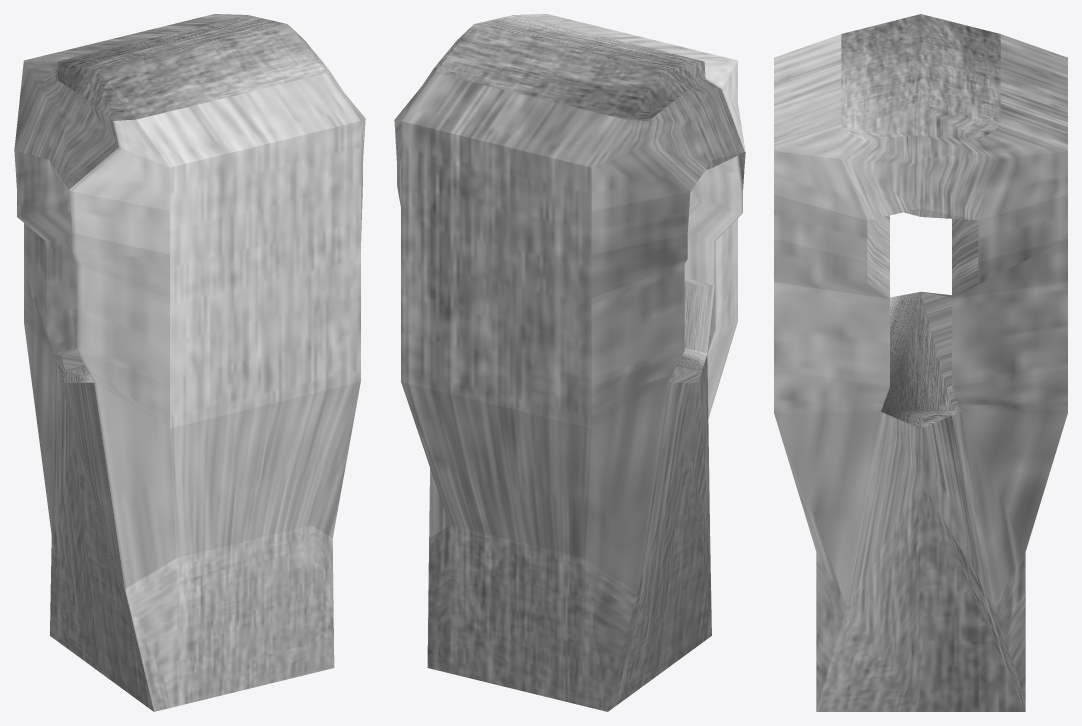
The model's file is keyhole.gltf.
The picture shows the model from 3 angles, left to right: view 1: azimuth 30°, elevation 25°; view 2: azimuth 150°, elevation 25°; view 3: azimuth 270°, elevation 25°; orthographic projection.
Parts seen in each view (by area): view 1: Cube; view 2: Cube; view 3: Cube.
Boxes of the visible parts, bbox=[...] form: Cube: bbox=[14, 14, 365, 711]; Cube: bbox=[394, 14, 745, 711]; Cube: bbox=[774, 14, 1067, 711].
Bounding box in the file's own units: 2.34 × 4.56 × 2.
Materials: 1 (1 with a texture image).
